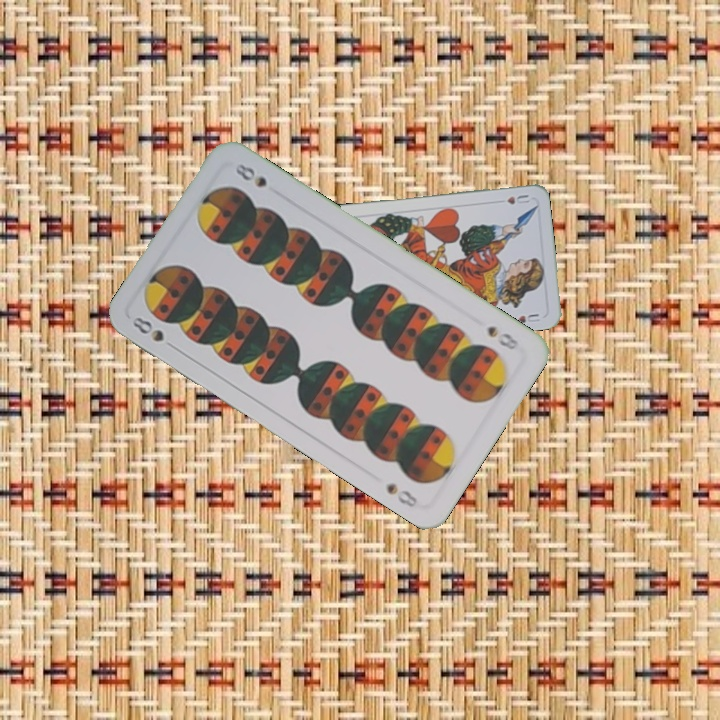HU: (503, 191, 532, 207)
S8: (128, 312, 180, 353), (483, 321, 522, 353)
